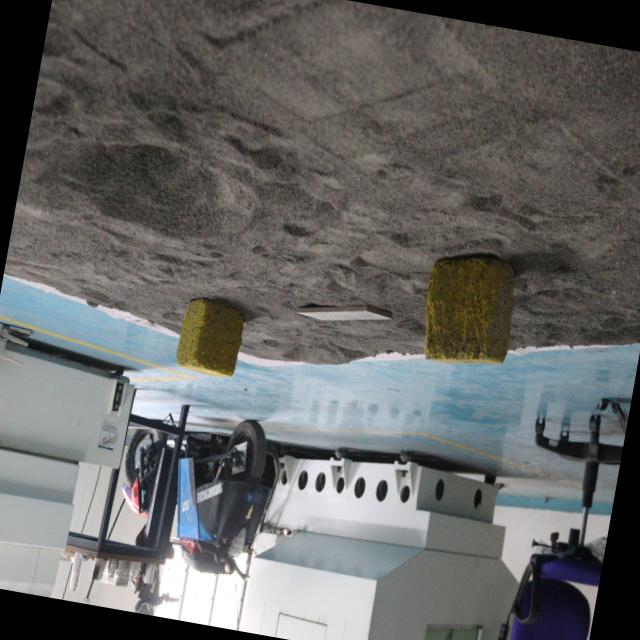box: (413, 244, 526, 376), (171, 292, 248, 380)
crater: (30, 102, 277, 274)
